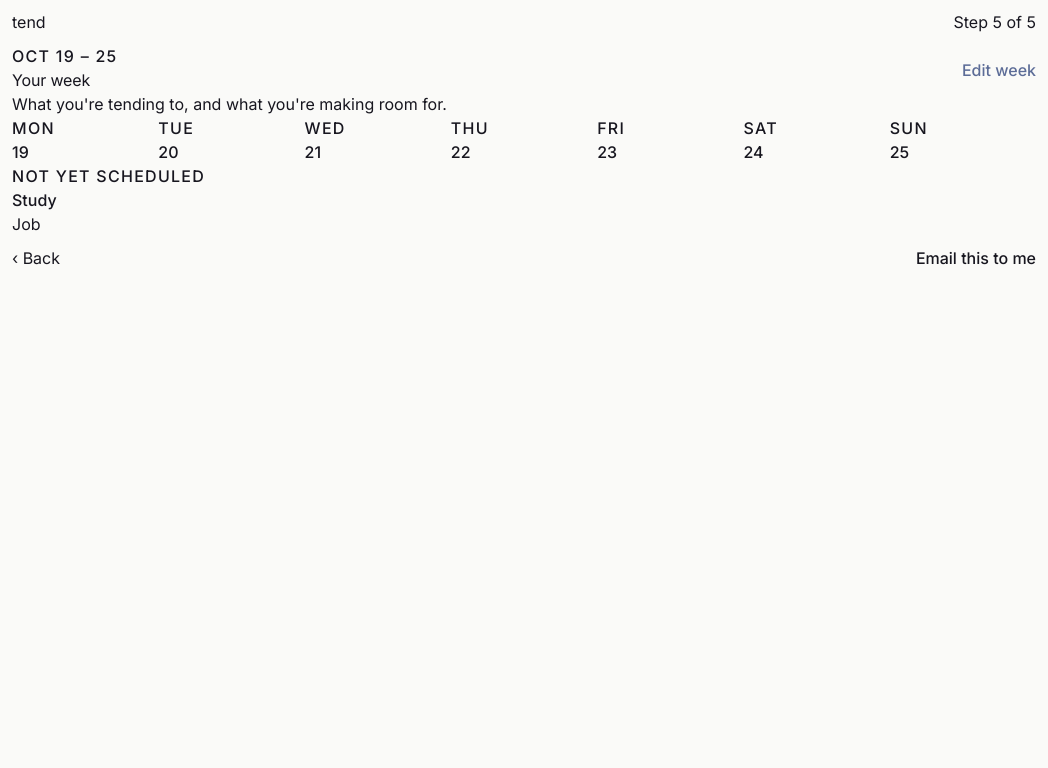
YourWeekStep › lists an action that is waiting for a day under Unscheduled
Expected: the heading "Not yet scheduled" is shown, [12,166,205,186]
Expected: the text "Study" is shown, [12,190,57,210]
Click the button "Edit week": (999, 70) [962,48,1036,92]
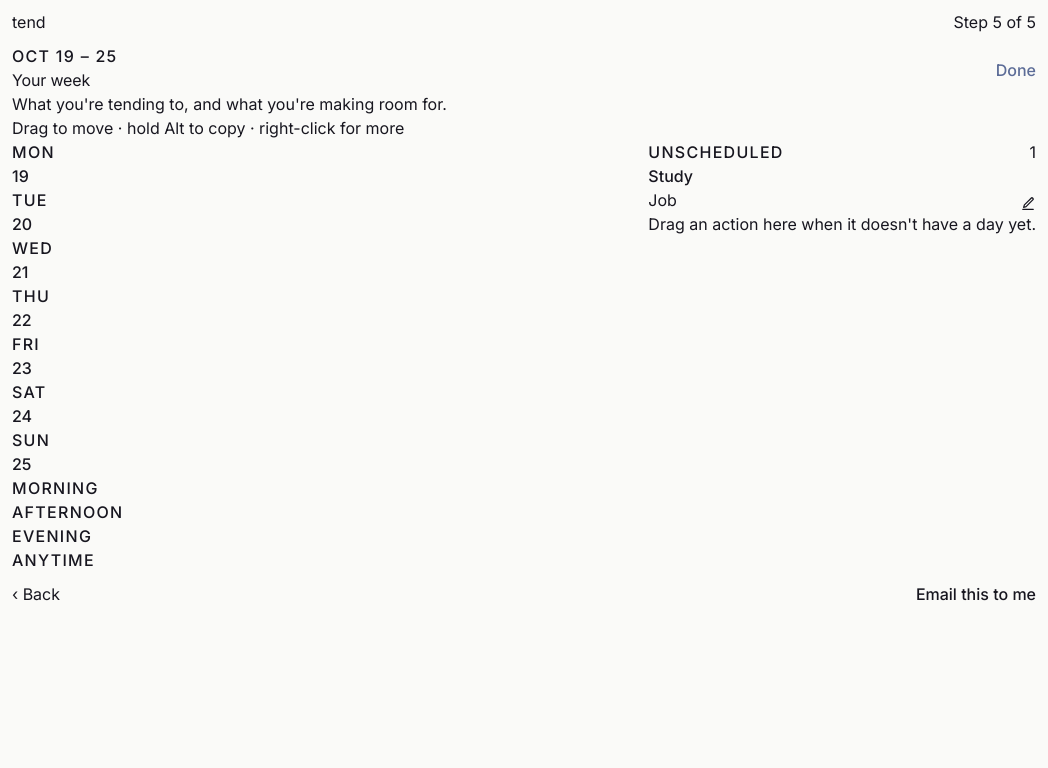
Expected: the heading "Unscheduled" is shown, [648,140,784,164]
Now the button named "Study, not yet scheduled. Job" is shown, box [648,164,1020,188]
